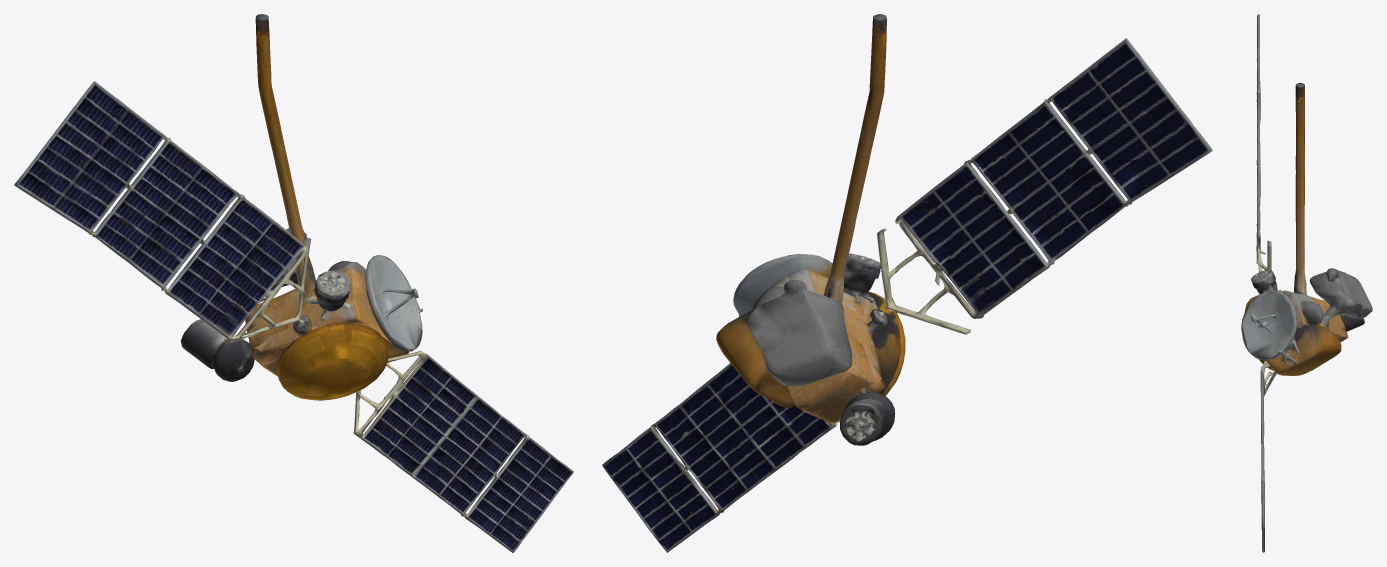
The model's file is imim-low.glb.
3 views of the same model, side by side, from view 1: azimuth 30°, elevation 25°; view 2: azimuth 150°, elevation 25°; view 3: azimuth 270°, elevation 25° (orthographic). The views are drawn at different scales.
Size of the model in its own units: 1.9 by 1.87 by 0.56.
Materials: 1 (1 with a texture image).
